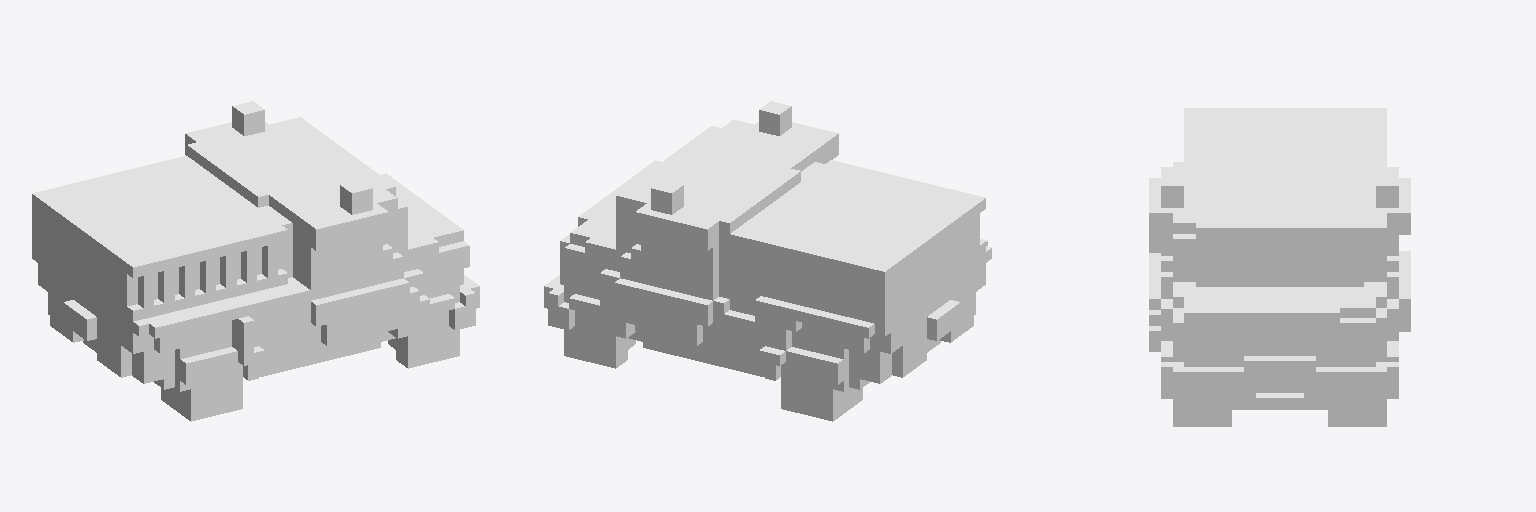
Rendered from Firetruck.obj.
3 renders of one model, left to right at view 1: azimuth 30°, elevation 25°; view 2: azimuth 150°, elevation 25°; view 3: azimuth 270°, elevation 25°, orthographic.
Size of the model in its own units: 35 by 18 by 22.